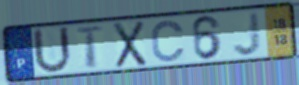6: (190, 13, 224, 62)
C: (150, 18, 187, 64)
J: (230, 10, 263, 58)
T: (74, 25, 107, 70)
U: (31, 25, 74, 76)
X: (111, 19, 148, 70)
